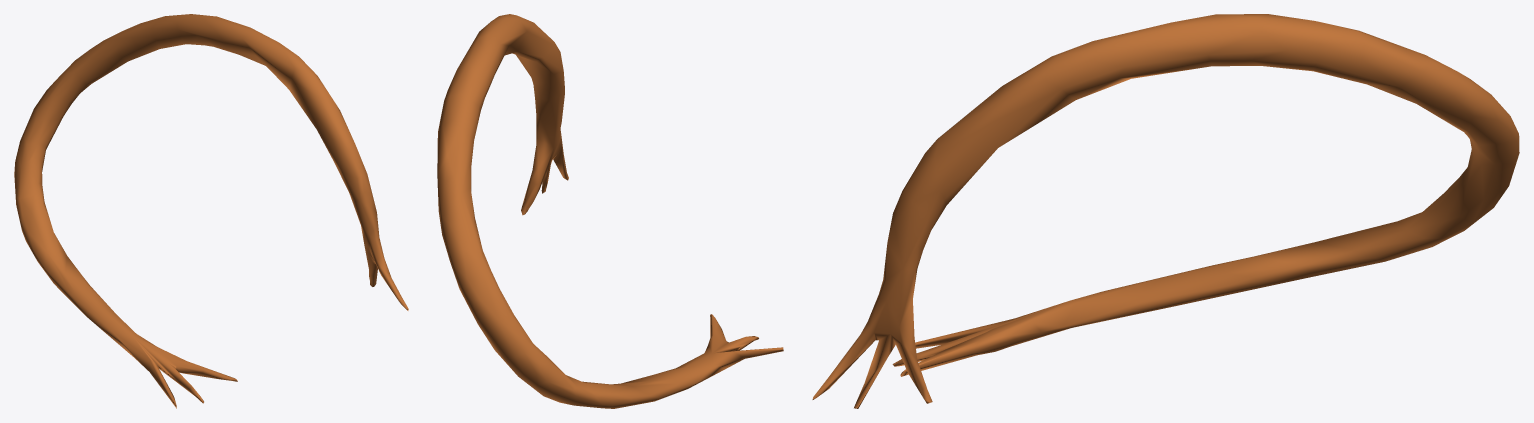
The model's file is Stria_terminalis_right.glb.
3 views of the same model, side by side, from view 1: azimuth 30°, elevation 25°; view 2: azimuth 150°, elevation 25°; view 3: azimuth 270°, elevation 25° (orthographic). The views are drawn at different scales.
Visible parts, largest first — view 1: Stria_terminalis.r_grp1.037; view 2: Stria_terminalis.r_grp1.037; view 3: Stria_terminalis.r_grp1.037.
Part boxes in pixels (x1,y1,x2,y2): Stria_terminalis.r_grp1.037: (14, 14, 408, 408); Stria_terminalis.r_grp1.037: (437, 14, 783, 408); Stria_terminalis.r_grp1.037: (812, 14, 1519, 408).
Size of the model in its own units: 0.0249 by 0.0299 by 0.0423.
